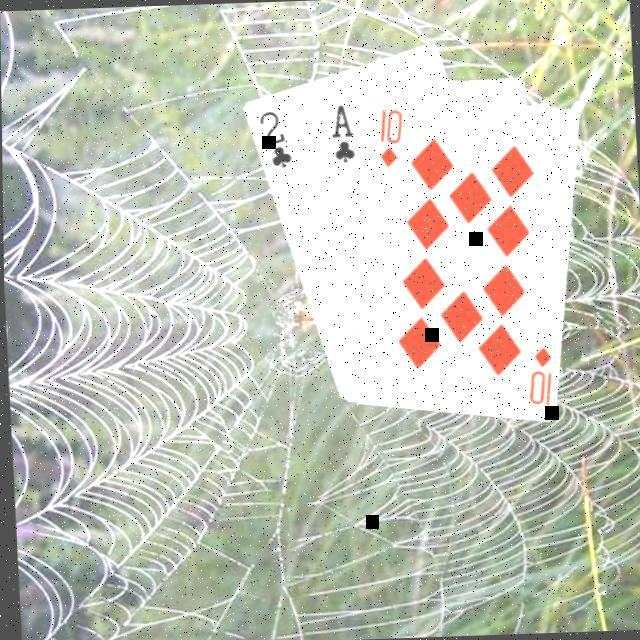10D: (520, 344, 552, 411), (372, 106, 404, 172)
2C: (251, 108, 292, 173)
AC: (324, 102, 354, 168)
